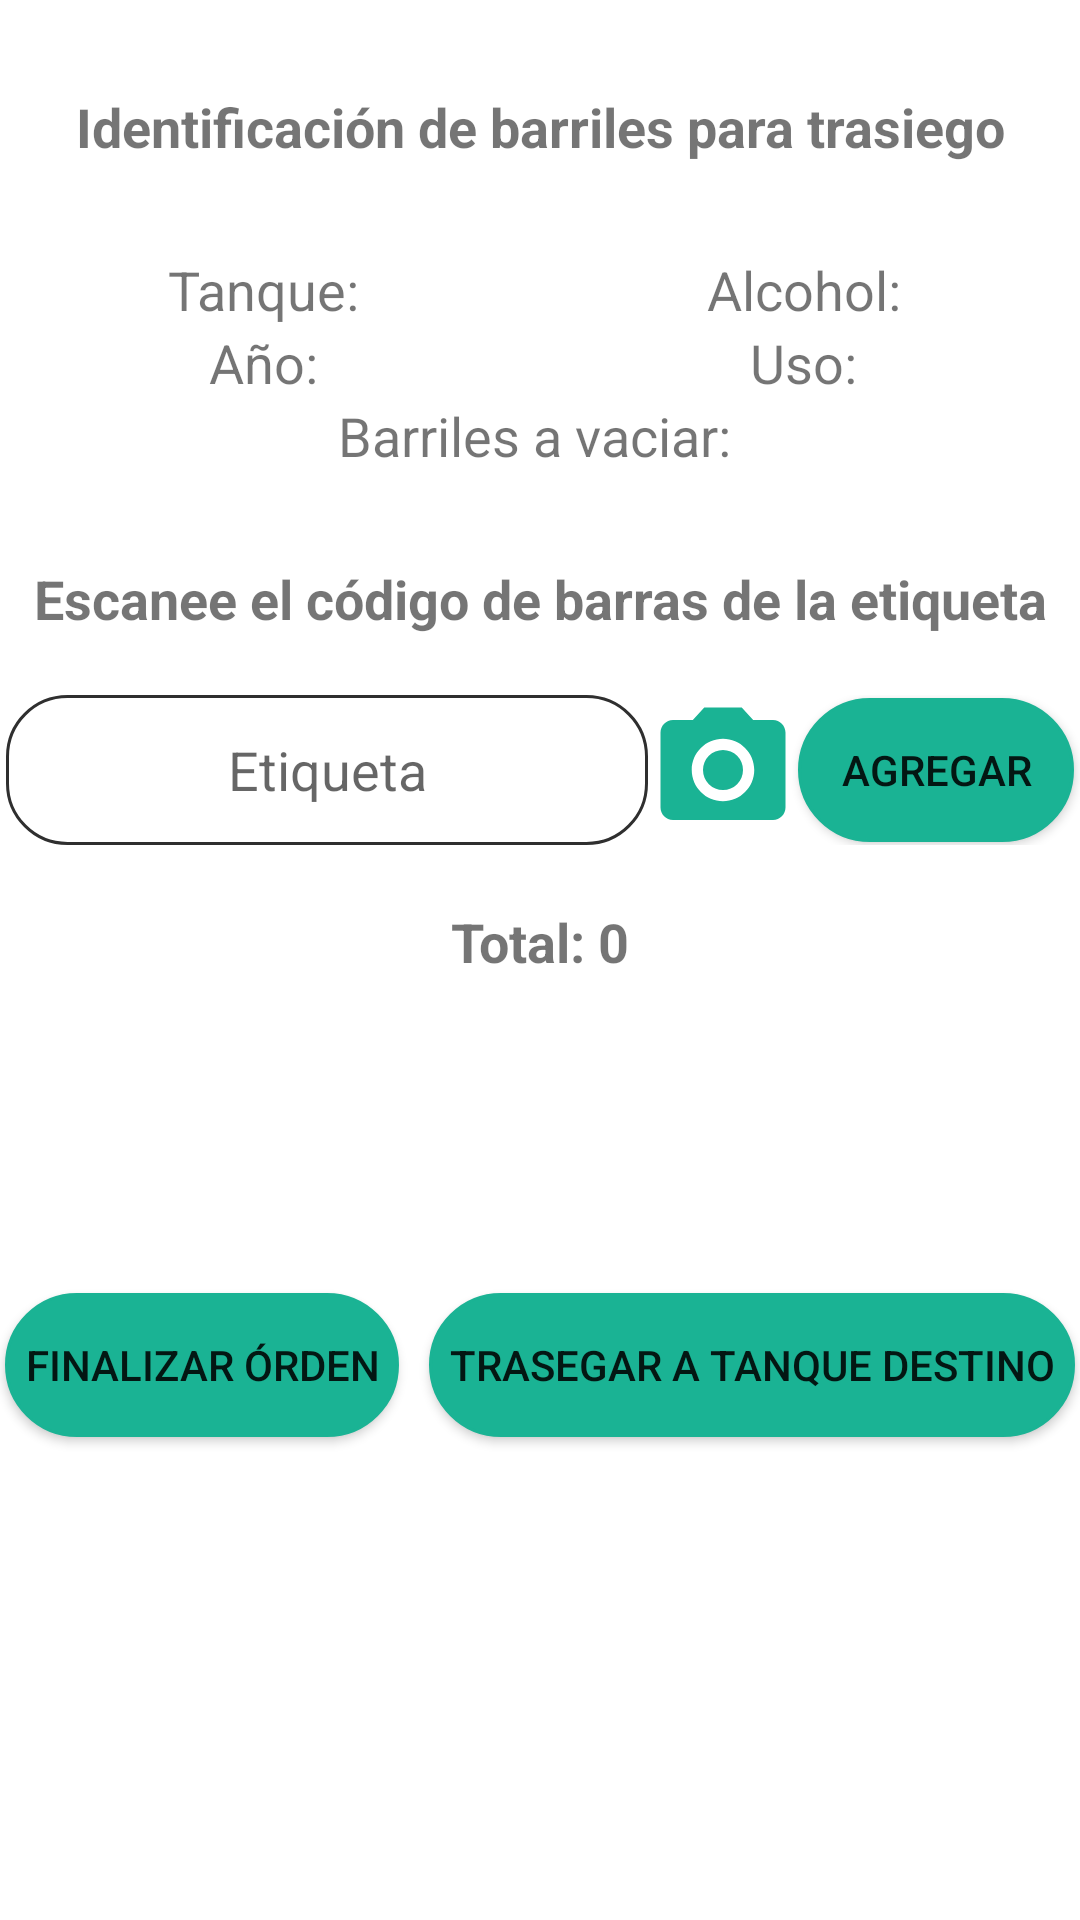

Where to tap for icons on this 1080 × 1920 app screen, as (x=x, y=y):
photo camera: (x=723, y=763)
